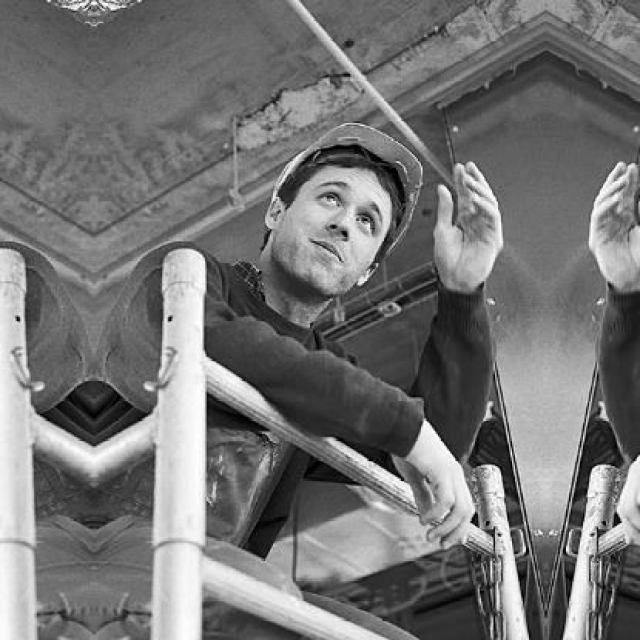helmet: (266, 120, 422, 294)
